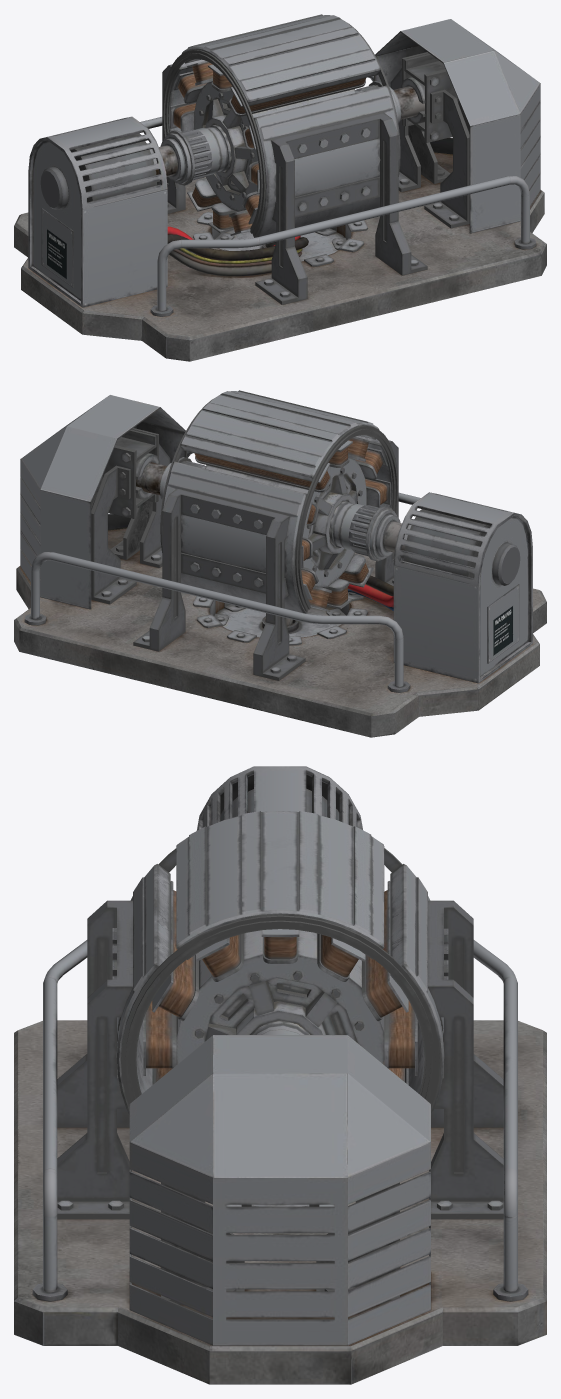
Rendered from machine.glb.
The picture shows the model from 3 angles, top to bottom: view 1: azimuth 30°, elevation 25°; view 2: azimuth 150°, elevation 25°; view 3: azimuth 270°, elevation 25°; orthographic projection. The views are drawn at different scales.
Visible parts, largest first — view 1: machine-part#base, machine-part#shell, machine-main#core; view 2: machine-part#base, machine-part#shell, machine-main#core; view 3: machine-part#base, machine-part#shell, machine-main#core.
Part boxes in pixels (x1,y1,x2,y2): machine-part#base: (14, 19, 546, 361); machine-part#shell: (40, 14, 469, 304); machine-main#core: (155, 61, 424, 235); machine-part#base: (14, 395, 546, 737); machine-part#shell: (91, 390, 520, 680); machine-main#core: (136, 437, 405, 611); machine-part#base: (14, 766, 546, 1384); machine-part#shell: (57, 788, 503, 1304); machine-main#core: (143, 881, 417, 1084).
Size of the model in its own units: 5.76 by 2.55 by 3.61.
Materials: 3 (3 with a texture image).
